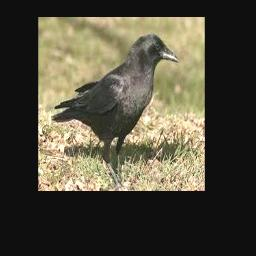Crow: (53, 33, 179, 191)
